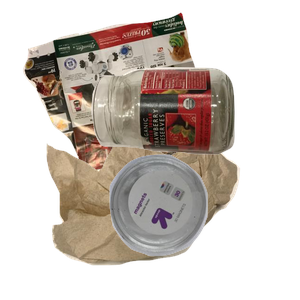glass: (89, 65, 300, 212)
paper: (20, 10, 231, 190)
plastic: (107, 152, 300, 300)
trash: (44, 136, 277, 300)
